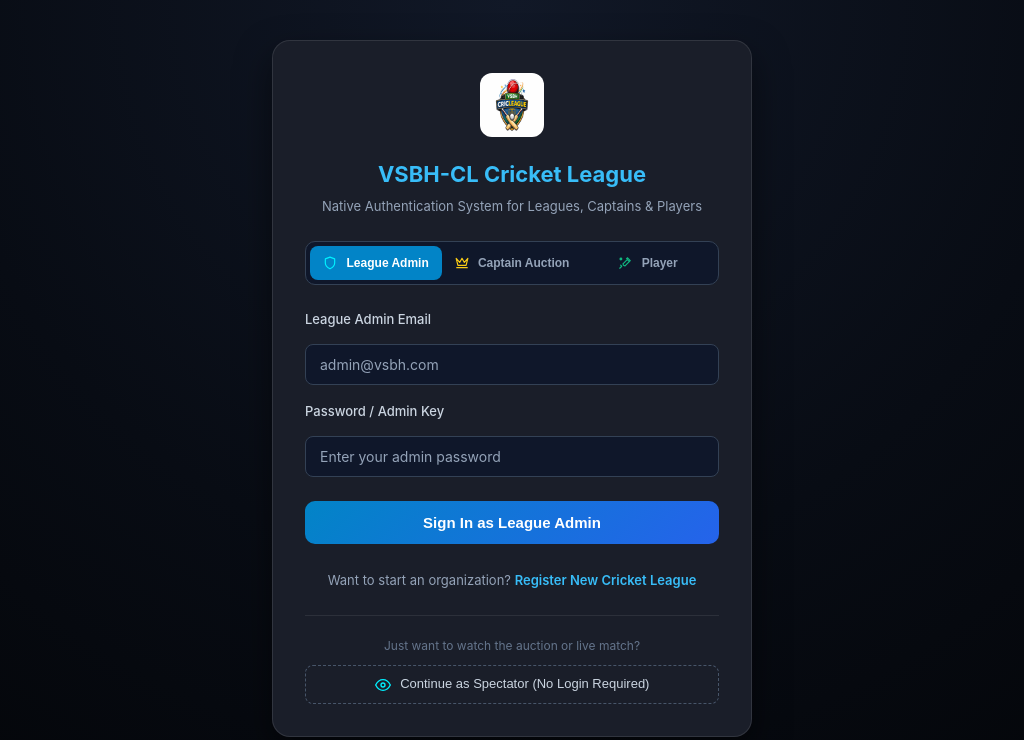
Test: Login Component › switches to Captain Auction Login tab
Click the button "Captain Auction": (512, 263) [446, 246, 578, 280]
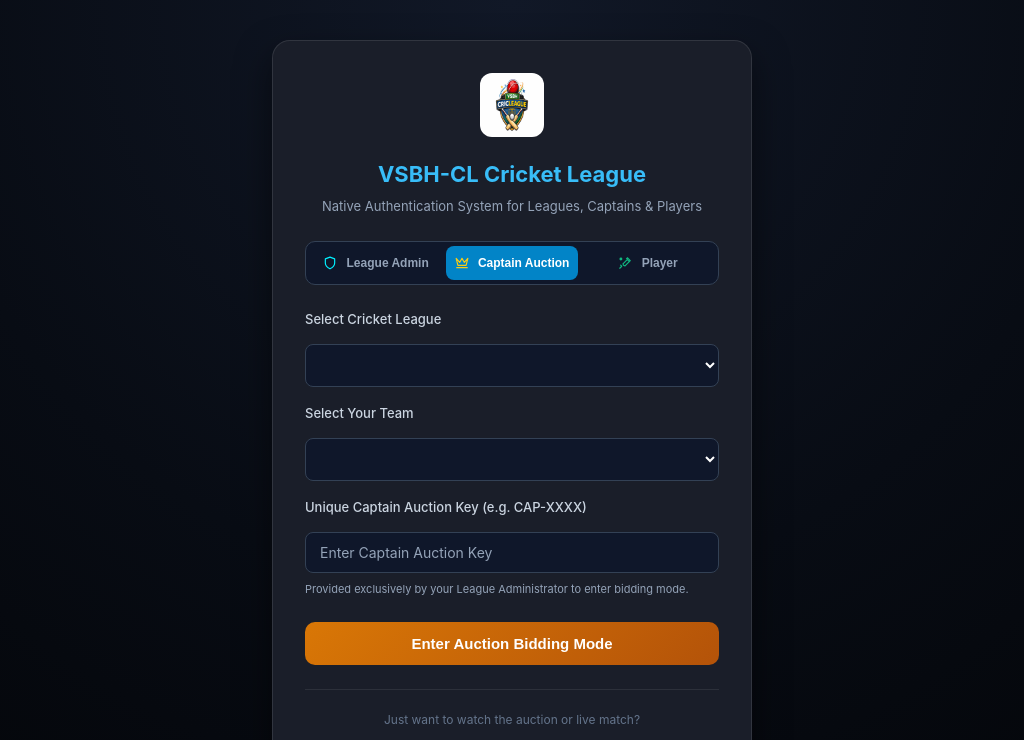
Check: the text "Unique Captain Auction Key (e.g. CAP-XXXX)" is shown, box [305, 499, 587, 515]
Check: the button "Enter Auction Bidding Mode" is shown, box [305, 622, 719, 665]
